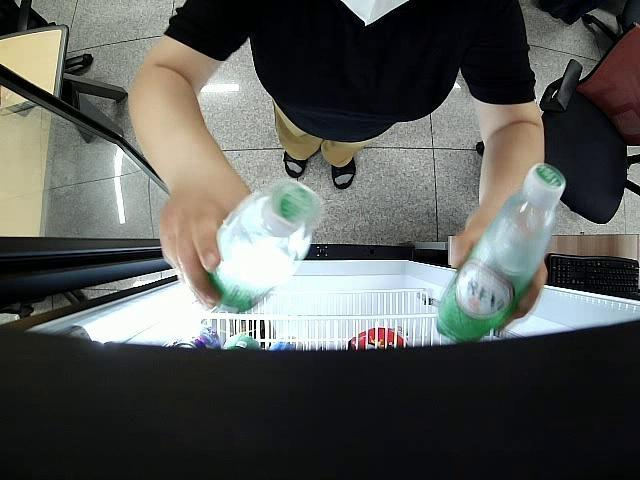18_trevi: (442, 163, 568, 344), (209, 183, 320, 313)
